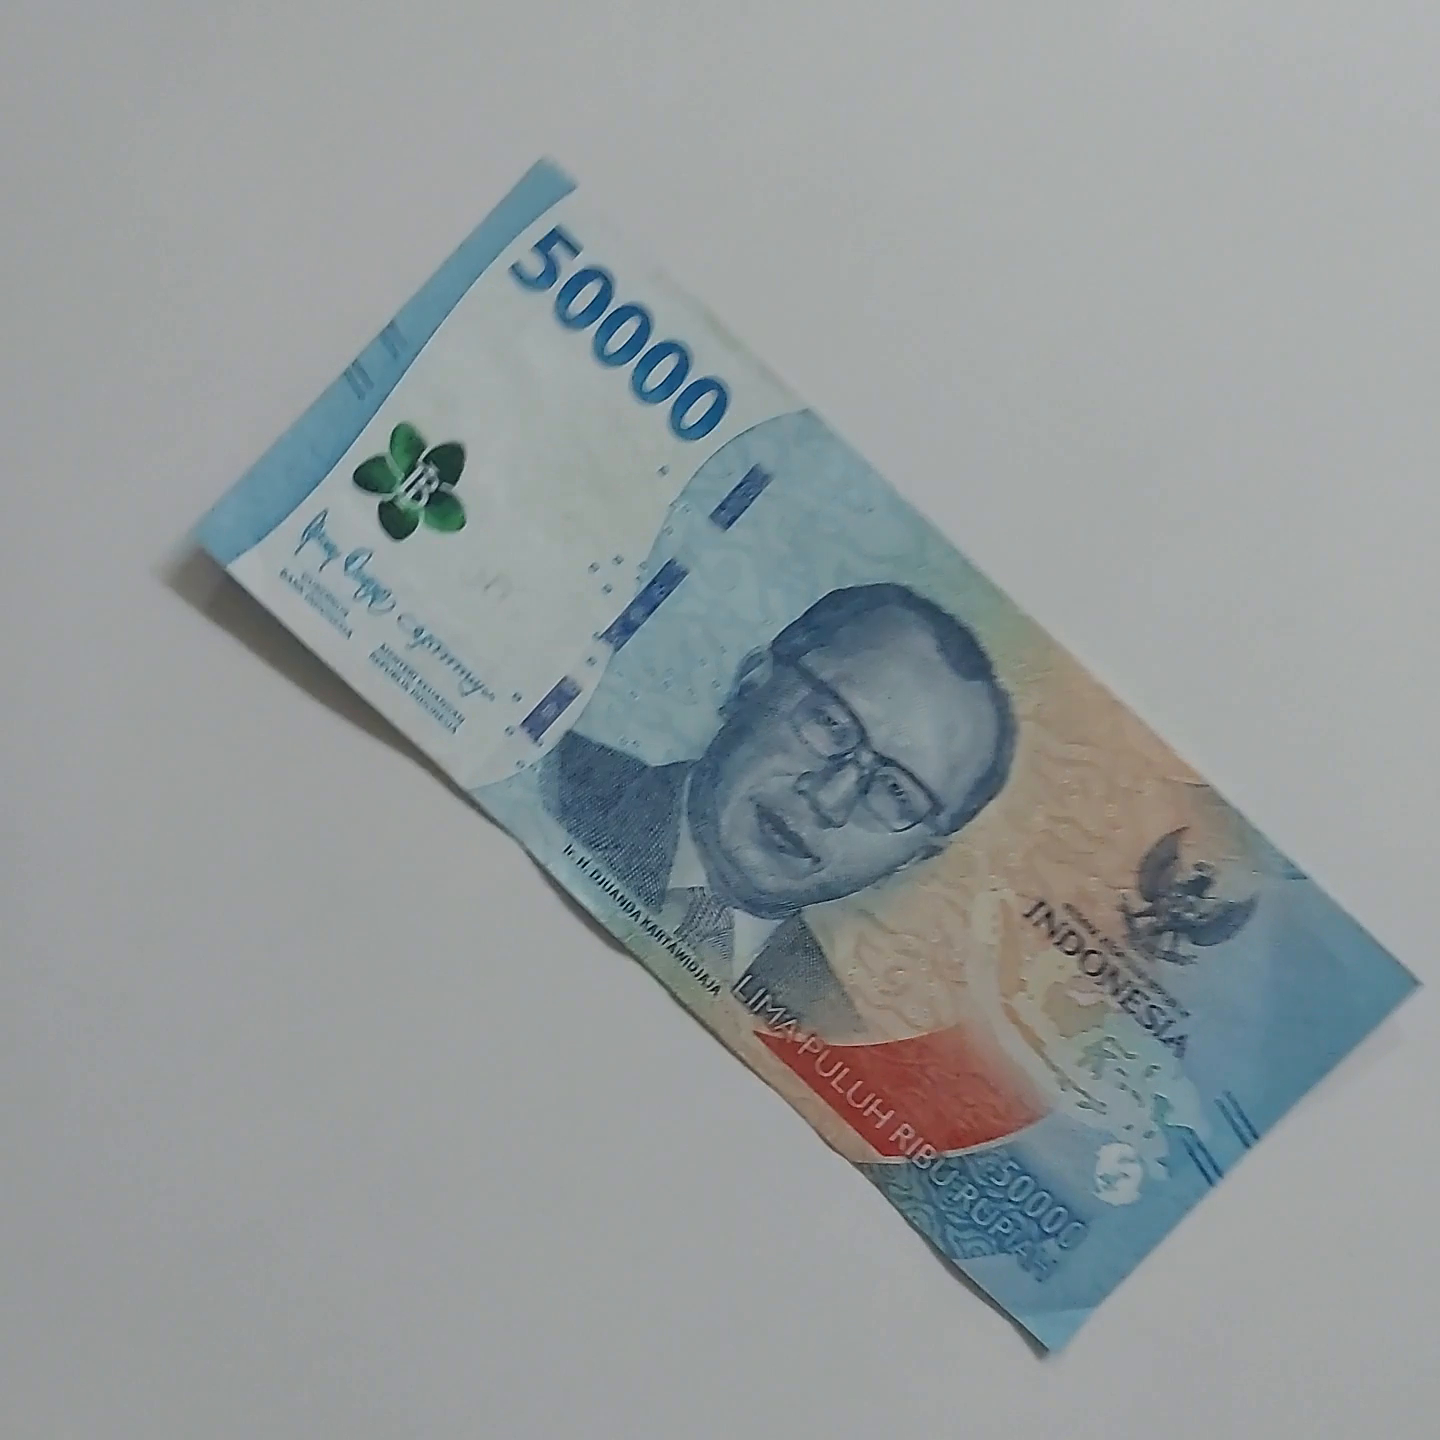50k: (576, 125, 1440, 674)
